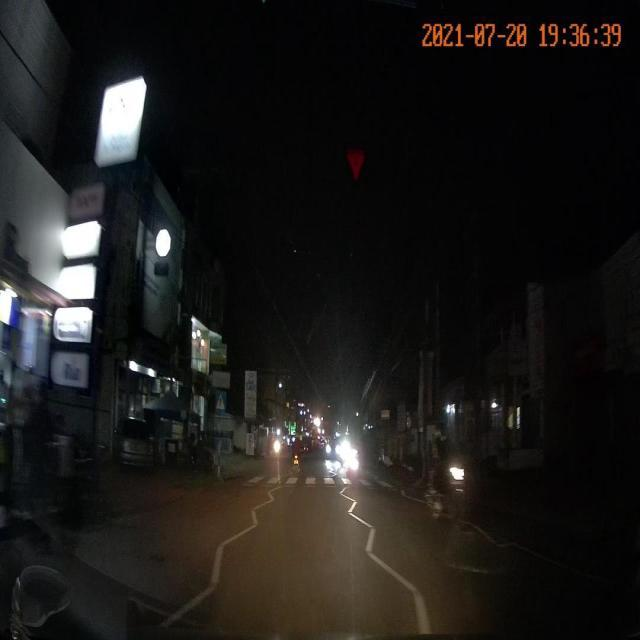Crosswalk: (239, 470, 405, 492)
